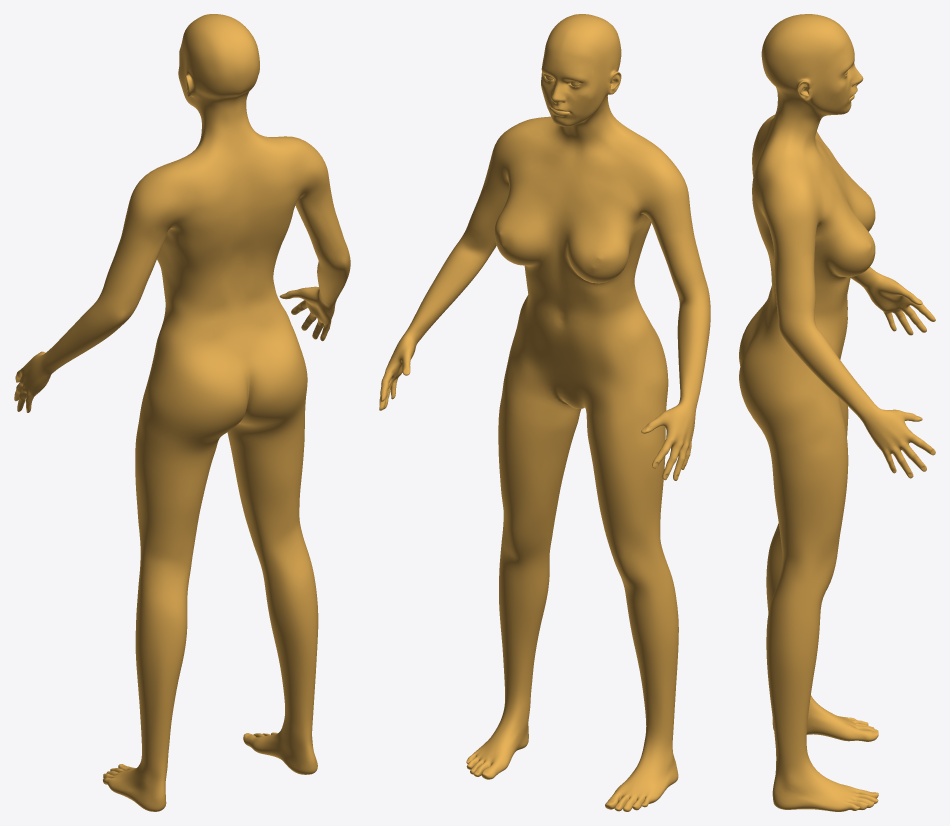
File: athletic-gel-figure-v2.glb
The picture shows the model from 3 angles, left to right: view 1: azimuth 30°, elevation 25°; view 2: azimuth 150°, elevation 25°; view 3: azimuth 270°, elevation 25°; orthographic projection.
Visible parts, largest first — view 1: athletic; view 2: athletic; view 3: athletic.
Part boxes in pixels (x1,y1,x2,y2): athletic: (14, 14, 350, 811); athletic: (379, 14, 710, 811); athletic: (739, 14, 935, 811).
Size of the model in its own units: 0.7098 by 1.7 by 0.402.
